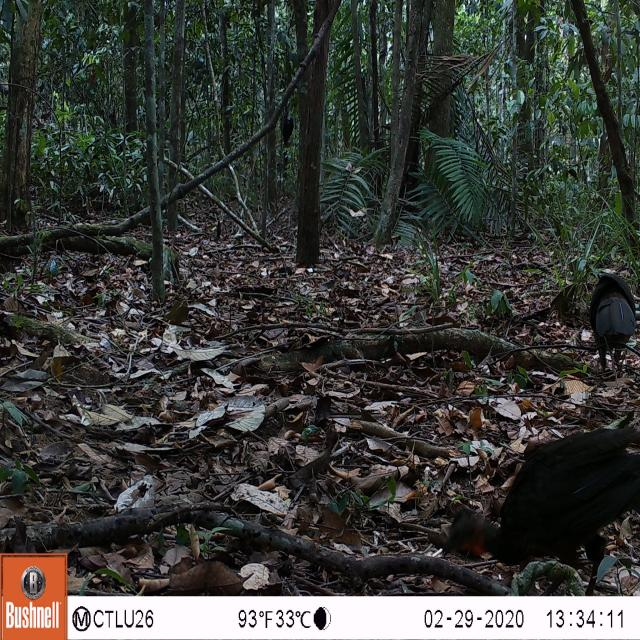Spixs Guan: (442, 426, 640, 591), (586, 259, 640, 375)
